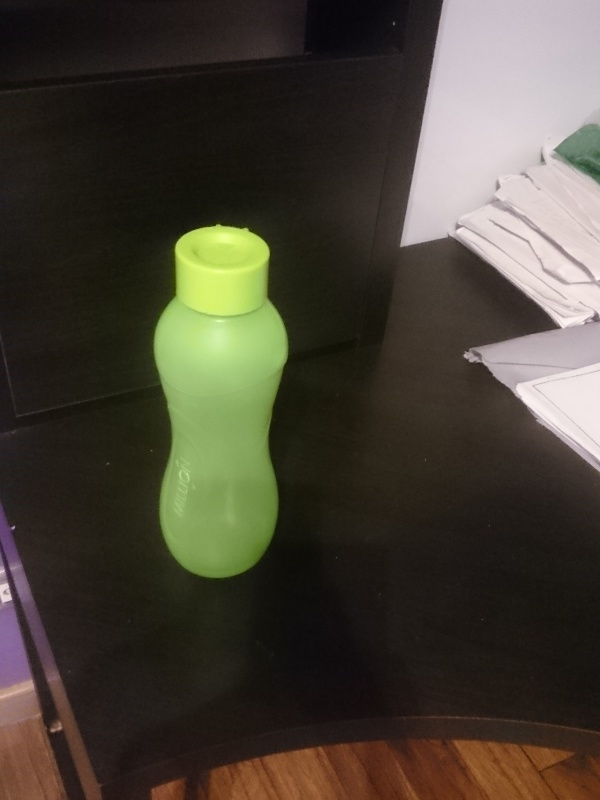my bottle: (150, 227, 287, 581)
